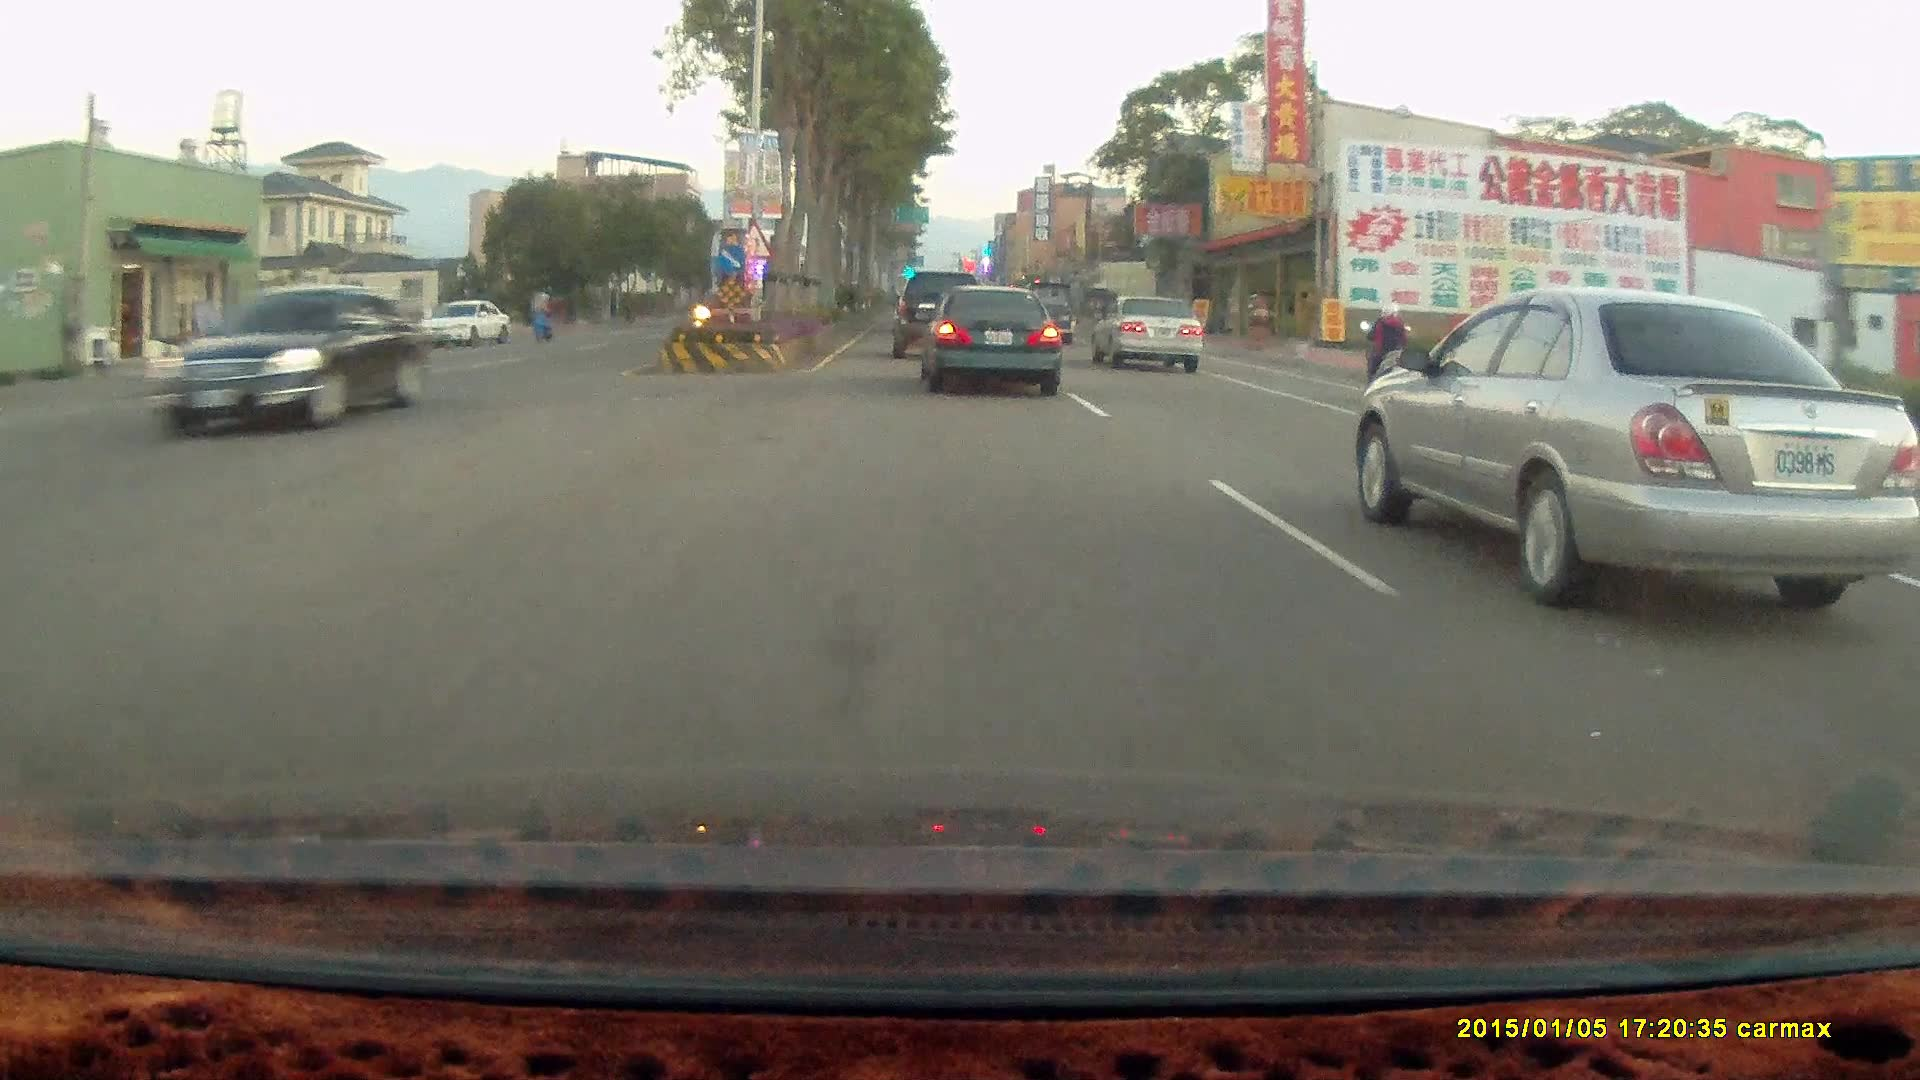rider: (1355, 295, 1419, 413), (1358, 301, 1408, 406), (527, 283, 556, 340)
vehicle: (1357, 288, 1920, 613), (160, 288, 423, 442), (917, 283, 1062, 396), (919, 286, 1063, 398), (891, 269, 985, 364), (1089, 293, 1201, 372), (1095, 297, 1207, 376), (891, 278, 982, 366), (420, 299, 512, 348), (1007, 282, 1075, 348), (425, 299, 513, 350)
